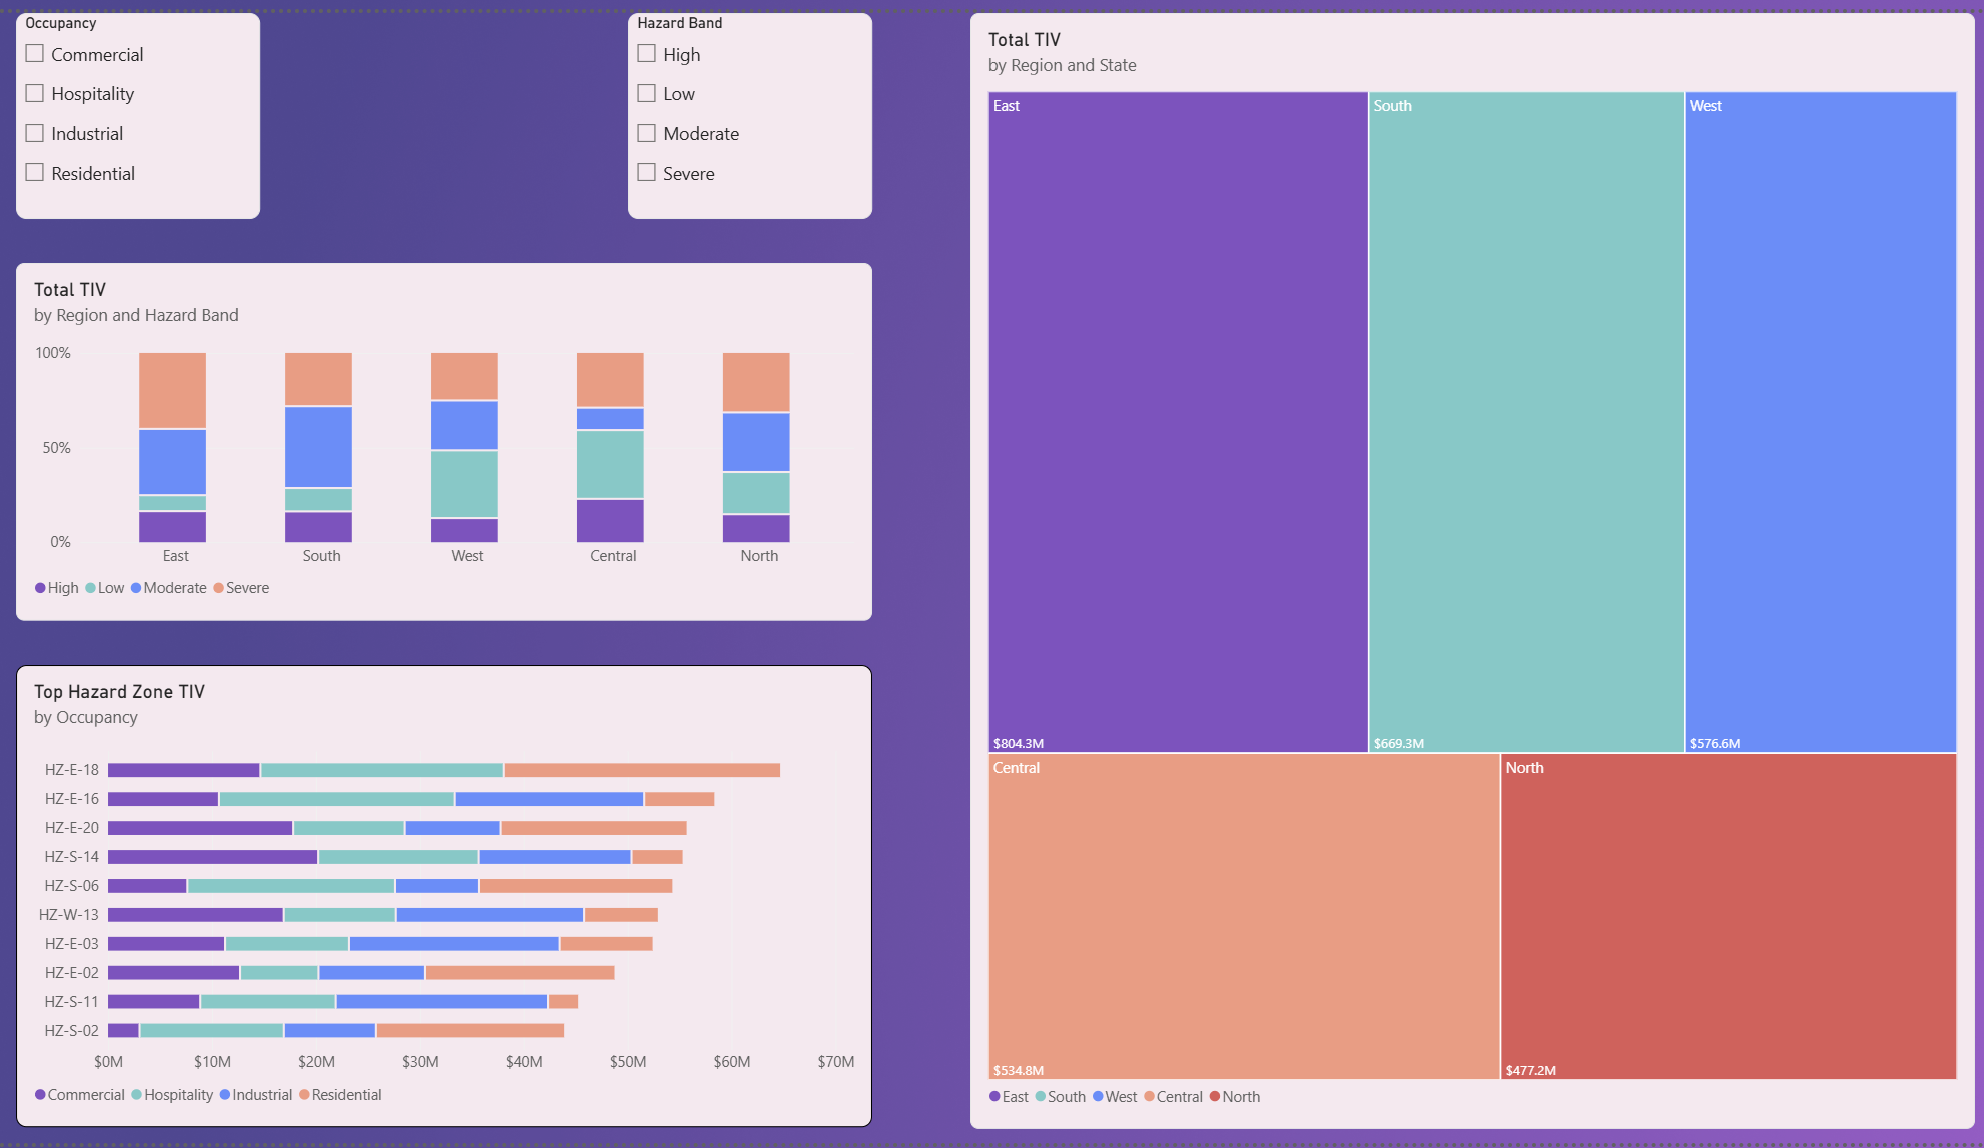

What the dashboard file says about the page in this screenshot:
{"tool":"powerbi","page":{"name":"Concentration and Hazard","canvas":[1920,1080],"ordinal":2},"visuals":[{"type":"slicer","fields":{"Values":["Hazard.Hazard Band"]},"box":[384.4,0,234,280],"z":0},{"type":"barChart","title":"Top Hazard Zone TIV","fields":{"Y":["Exposure.Total TIV"],"Category":["Hazard.HazardZoneID"],"Series":["Exposure.Occupancy"]},"box":[26.8,722.9,818.5,342.3],"z":1000},{"type":"slicer","fields":{"Values":["Exposure.Occupancy"]},"box":[26.8,0,233.3,279.2],"z":2000},{"type":"treemap","title":"Total TIV","fields":{"Group":["Exposure.Region","Exposure.State"],"Values":["Exposure.Total TIV"]},"box":[939,317.5,960,747.7],"z":3000},{"type":"hundredPercentStackedColumnChart","fields":{"Y":["Exposure.Total TIV"],"Category":["Exposure.Region"],"Series":["Hazard.Hazard Band"]},"box":[26.8,317.5,818.5,342],"z":4000}]}

Visuals, with their boxes in screenshot pixels (x1, y1, x2, y2), scaled from the page's 1920x1080 canvas onto the 1984x1148 screenshot:
slicer - Hazard.Hazard Band: (x1=397, y1=0, x2=639, y2=298)
"Top Hazard Zone TIV" barChart: (x1=28, y1=768, x2=873, y2=1132)
slicer - Exposure.Occupancy: (x1=28, y1=0, x2=269, y2=297)
"Total TIV" treemap: (x1=970, y1=337, x2=1962, y2=1132)
hundredPercentStackedColumnChart - Exposure.Total TIV x Exposure.Region: (x1=28, y1=337, x2=873, y2=701)
